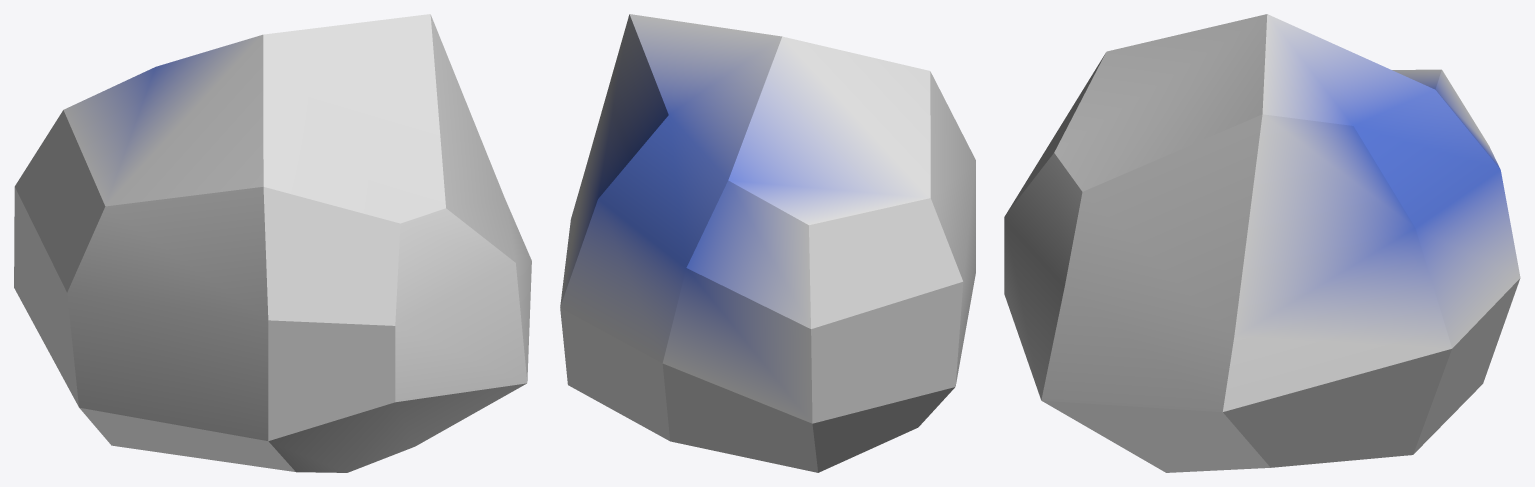
The model's file is Boulder02_movable.fbx.
The picture shows the model from 3 angles, left to right: view 1: azimuth 30°, elevation 25°; view 2: azimuth 150°, elevation 25°; view 3: azimuth 270°, elevation 25°; orthographic projection. The views are drawn at different scales.
Parts seen in each view (by area): view 1: Boulder01; view 2: Boulder01; view 3: Boulder01.
Boxes of the visible parts, x1,y1,x2,y2 form: Boulder01: [14, 14, 531, 472]; Boulder01: [560, 14, 975, 472]; Boulder01: [1004, 14, 1520, 472].
Bounding box in the file's own units: 432 × 394 × 429.
